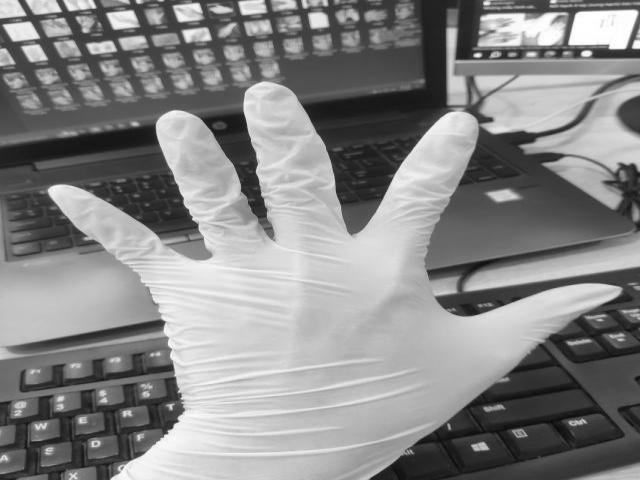gloved: (61, 88, 611, 477)
